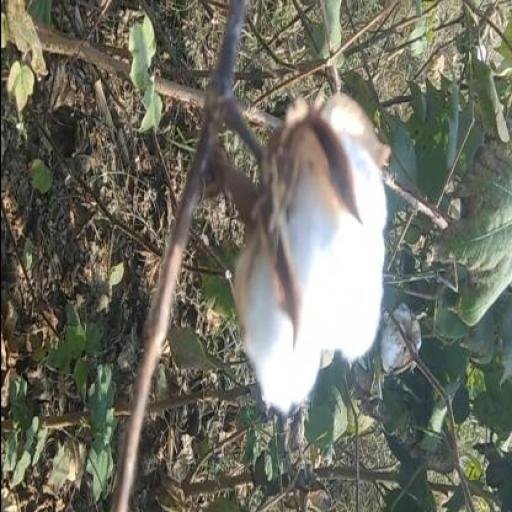cotton_ready: (176, 77, 407, 394)
